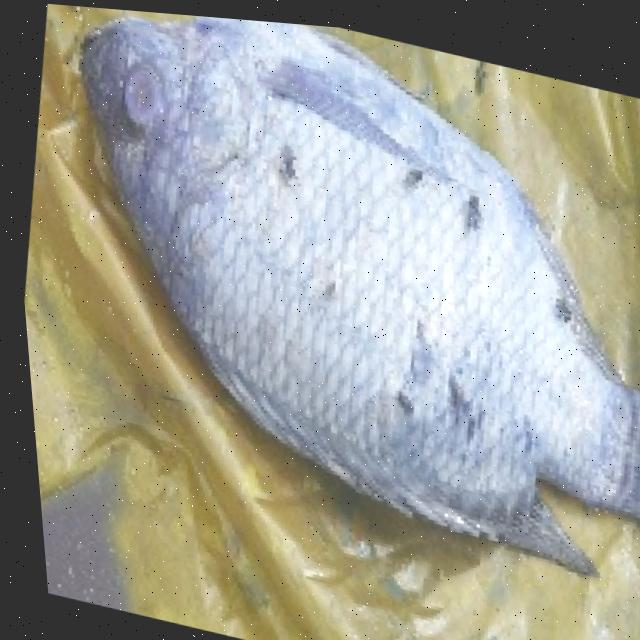Non-Fresh: (71, 8, 374, 243)
